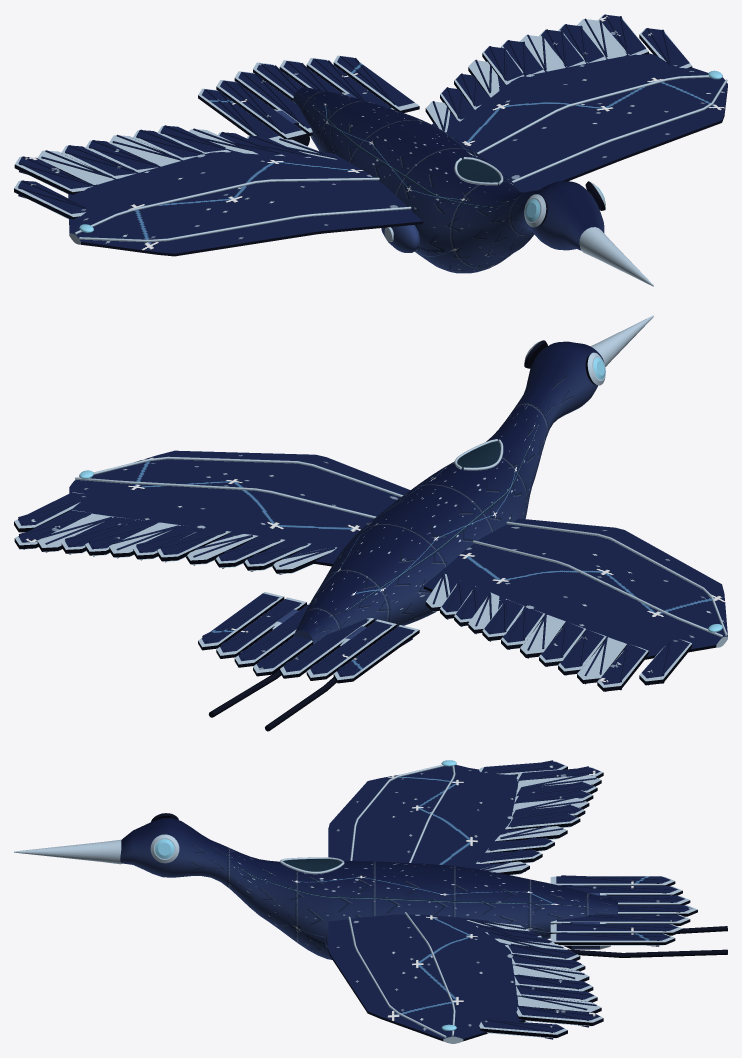
3 views of the same model, one above another, from view 1: azimuth 30°, elevation 25°; view 2: azimuth 150°, elevation 25°; view 3: azimuth 270°, elevation 25° (orthographic). The views are drawn at different scales.
Visible parts, largest first — view 1: egret_hull; view 2: egret_hull; view 3: egret_hull.
Boxes of the visible parts, <box> form: egret_hull: <box>14,14,727,286</box>; egret_hull: <box>14,315,727,731</box>; egret_hull: <box>14,760,727,1043</box>.
Size of the model in its own units: 57.92 by 13.44 by 64.
Materials: 1 (1 with a texture image).
